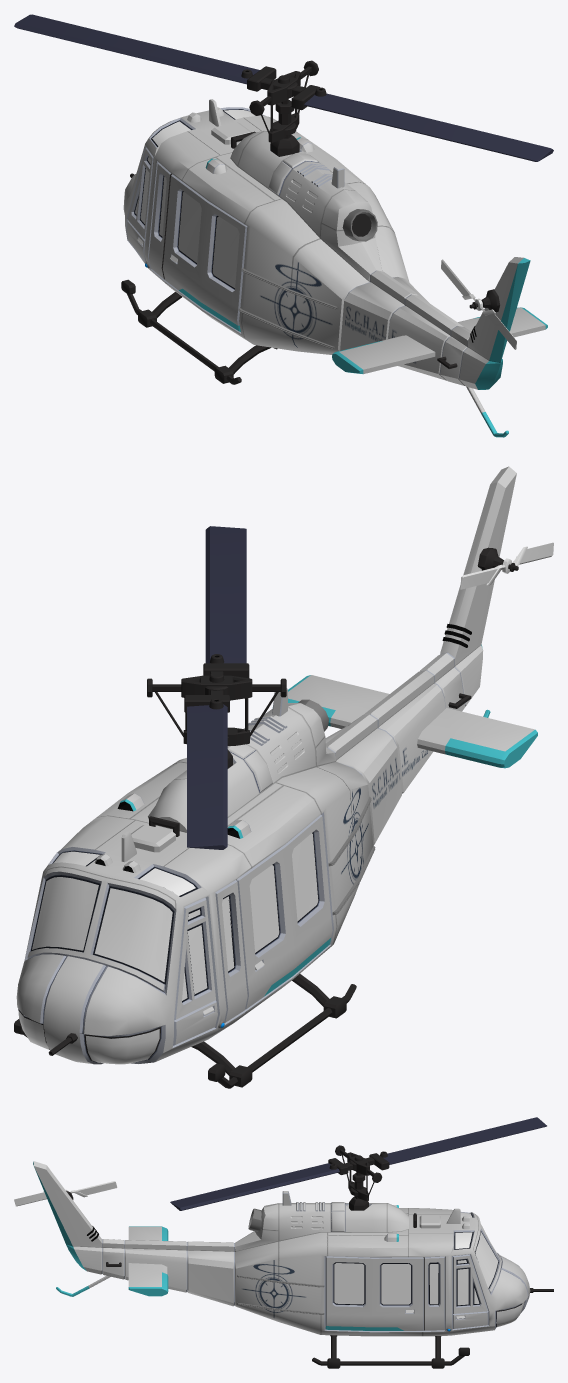
Rendered from HeliSchale.fbx.
3 renders of one model, top to bottom at view 1: azimuth 30°, elevation 25°; view 2: azimuth 150°, elevation 25°; view 3: azimuth 270°, elevation 25°, orthographic. The views are drawn at different scales.
Visible parts, largest first — view 1: chassis, static_rotor, door_lf_ok, static_rotor2; view 2: chassis, static_rotor, door_lf_ok, static_rotor2; view 3: chassis, static_rotor, door_rf_ok, static_rotor2.
Boxes of the visible parts, box(x1,y1,x2,y2) form: chassis: box(121, 99, 547, 437); static_rotor: box(14, 14, 553, 161); door_lf_ok: box(126, 146, 153, 262); static_rotor2: box(441, 259, 516, 349); chassis: box(14, 466, 537, 1088); static_rotor: box(147, 526, 286, 849); door_lf_ok: box(172, 896, 219, 1047); static_rotor2: box(460, 542, 553, 589); chassis: box(33, 1161, 553, 1368); static_rotor: box(170, 1117, 546, 1210); door_rf_ok: box(452, 1254, 489, 1330); static_rotor2: box(14, 1181, 117, 1206).
Size of the model in its own units: 430 by 400 by 1065.
Materials: 3 (1 with a texture image).
